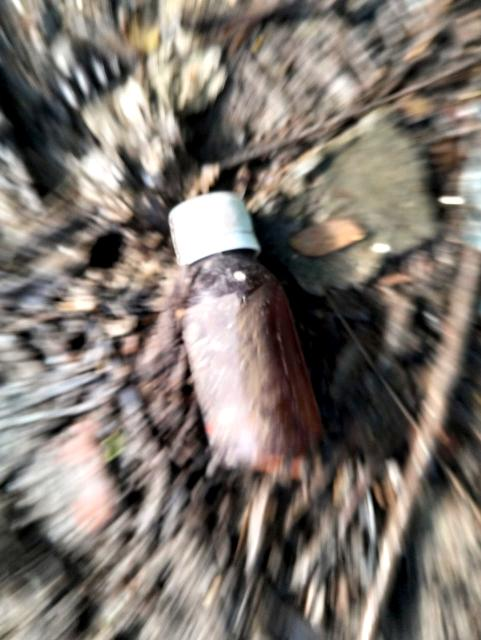bottle: (169, 182, 333, 485)
